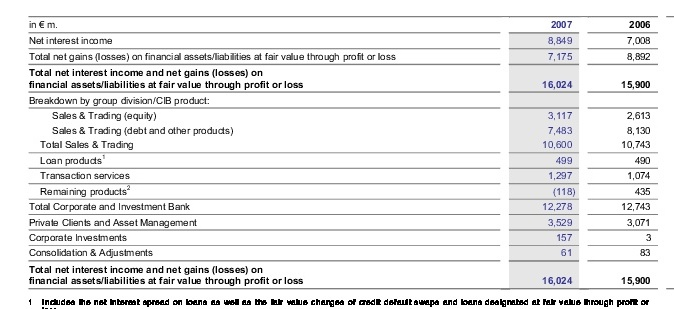table: (0, 0, 674, 309)
